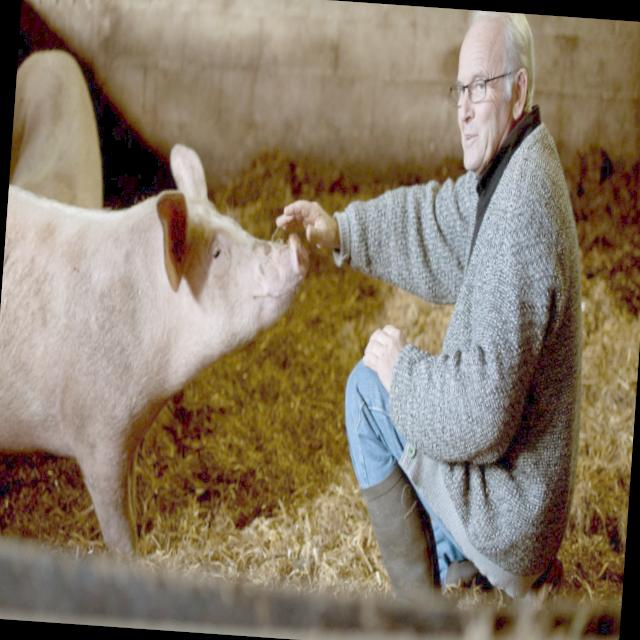pig: (0, 145, 310, 562), (9, 49, 102, 210)
